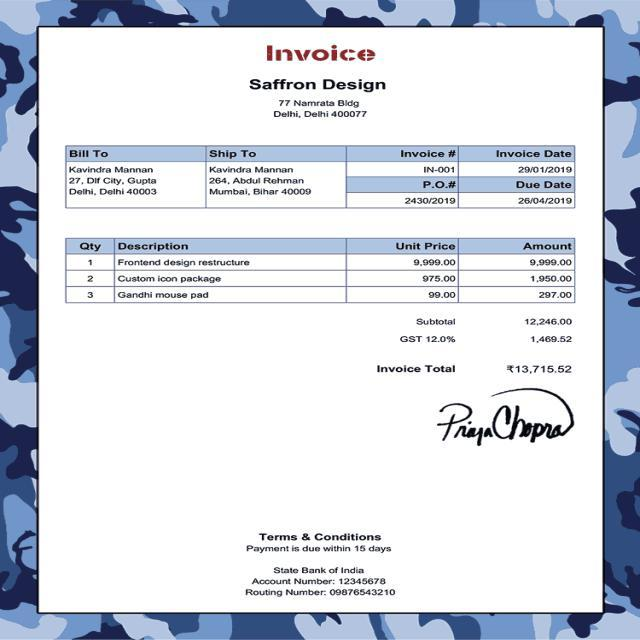ROI: (66, 239, 577, 301), (377, 312, 577, 374), (424, 384, 577, 452), (246, 70, 392, 121), (209, 147, 312, 205), (69, 142, 158, 204), (244, 563, 397, 599), (244, 527, 394, 555), (491, 146, 574, 176), (265, 42, 378, 64), (394, 148, 459, 177), (395, 181, 460, 205), (516, 181, 573, 206)
